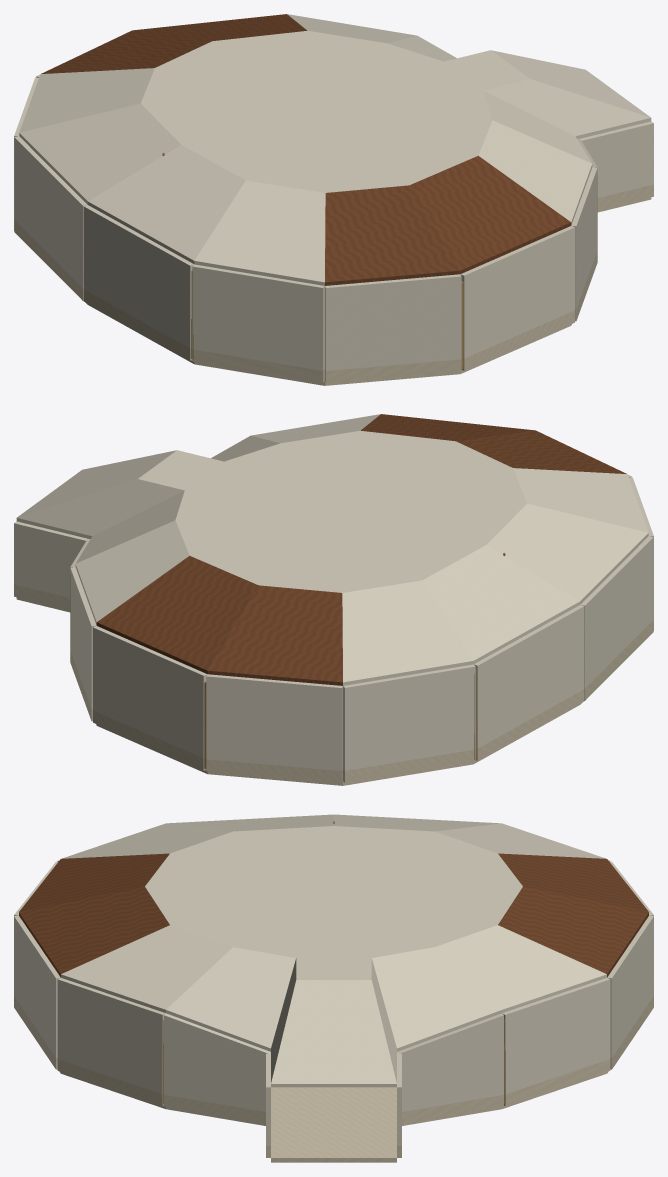
The model's file is AST-GAR-004.glb.
The picture shows the model from 3 angles, top to bottom: view 1: azimuth 30°, elevation 25°; view 2: azimuth 150°, elevation 25°; view 3: azimuth 270°, elevation 25°; orthographic projection. The views are drawn at different scales.
Visible parts, largest first — view 1: CAN_Runtime_ivory_enamel, CAN_Runtime_warm_walnut, CAN_Runtime_warm_stone, CAN_Runtime_champagne_metal; view 2: CAN_Runtime_ivory_enamel, CAN_Runtime_warm_walnut, CAN_Runtime_warm_stone, CAN_Runtime_champagne_metal; view 3: CAN_Runtime_ivory_enamel, CAN_Runtime_warm_walnut, CAN_Runtime_warm_stone.
Part boxes in pixels (x1,y1,x2,y2): CAN_Runtime_ivory_enamel: (14,14,653,370); CAN_Runtime_warm_walnut: (41,14,571,285); CAN_Runtime_warm_stone: (14,184,653,385); CAN_Runtime_champagne_metal: (162,153,597,368); CAN_Runtime_ivory_enamel: (14,414,653,770); CAN_Runtime_warm_walnut: (96,414,626,685); CAN_Runtime_warm_stone: (14,584,653,785); CAN_Runtime_champagne_metal: (70,553,505,768); CAN_Runtime_ivory_enamel: (14,814,653,1145); CAN_Runtime_warm_walnut: (19,853,648,977); CAN_Runtime_warm_stone: (14,996,653,1162).
Bounding box in the file's own units: 28.24 × 6.92 × 30.46.
Materials: 7 (6 with a texture image).
